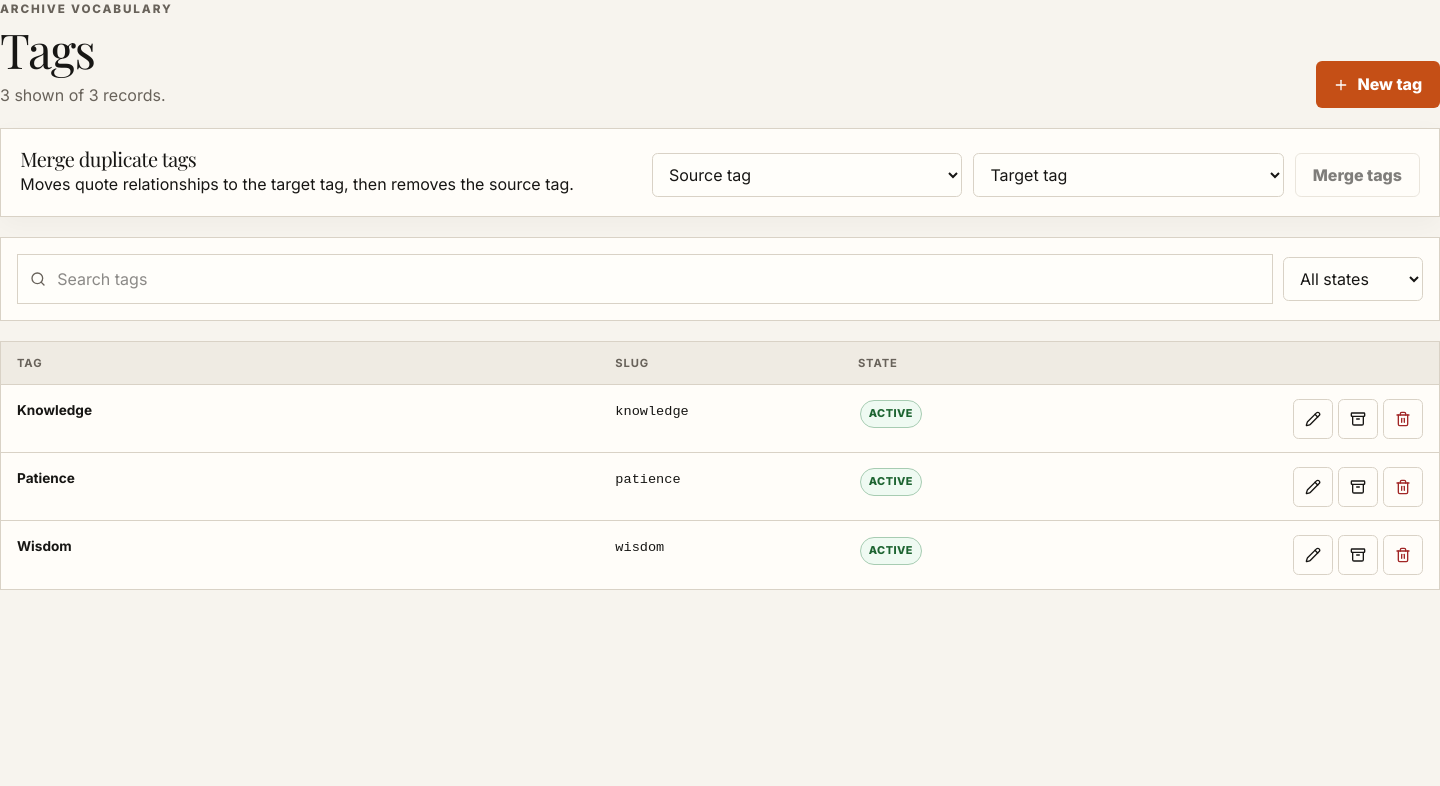
Test: admin taxonomy forms › preserves values on rejection, blocks duplicate submissions and releases the form for retry
Click the button named "Edit Knowledge" at (1313,419), box 1293,399 -> 1333,439
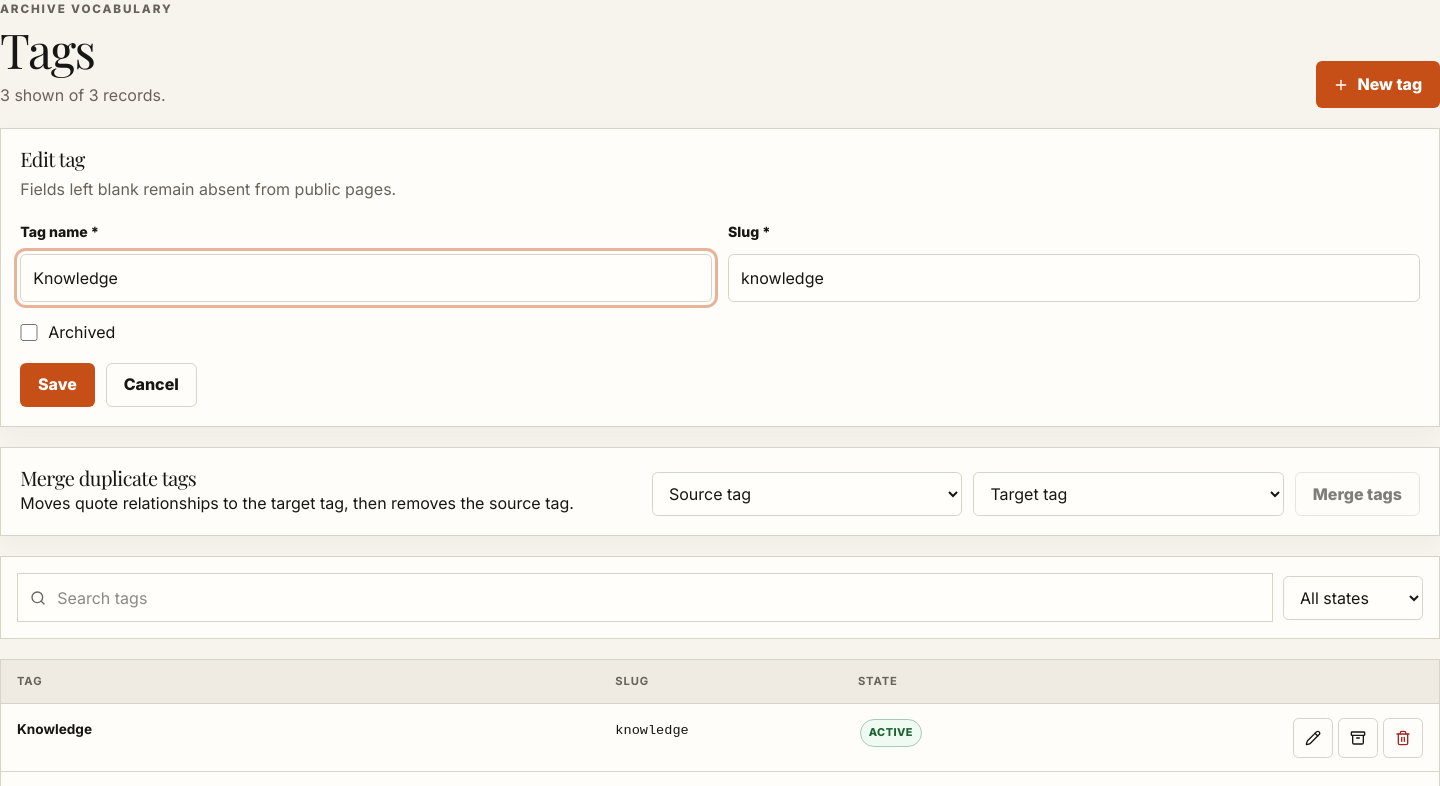
Replace the text in the field labelled "Tag name *" with "Changed" at (366,278), box 20,254 -> 712,302
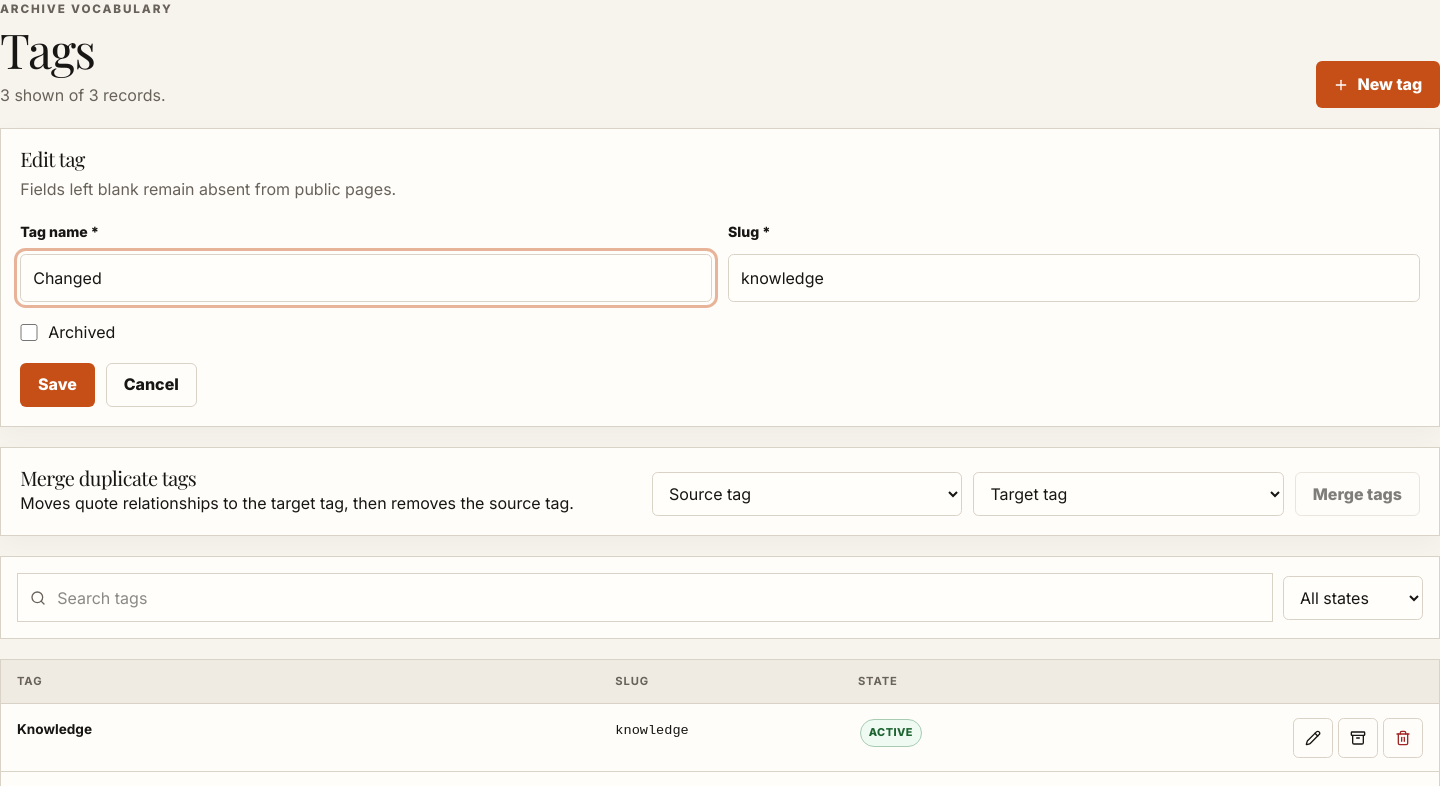
Submit the form "Tag name *", box 20,148 -> 1420,407
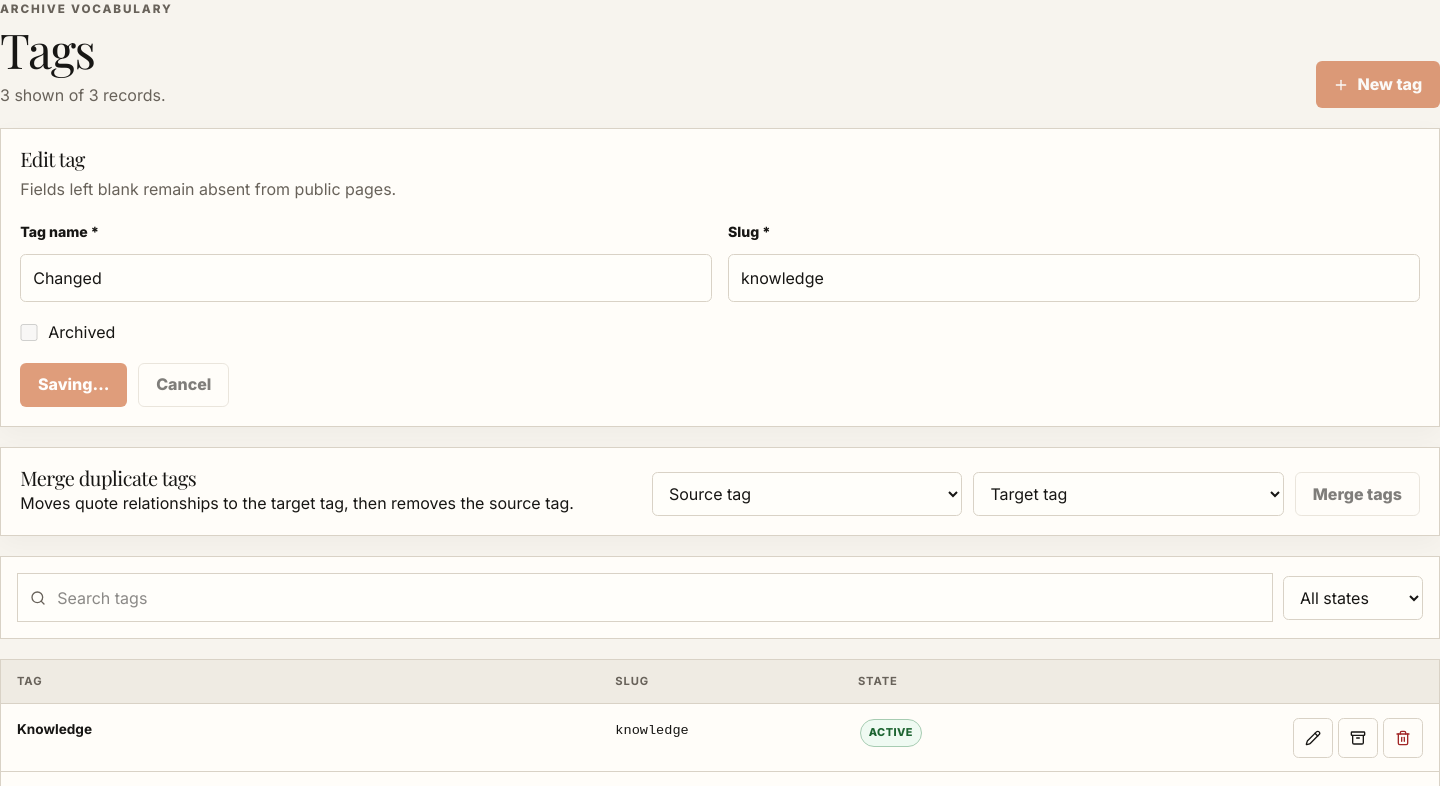
Submit the form "Tag name *", box 20,148 -> 1420,407
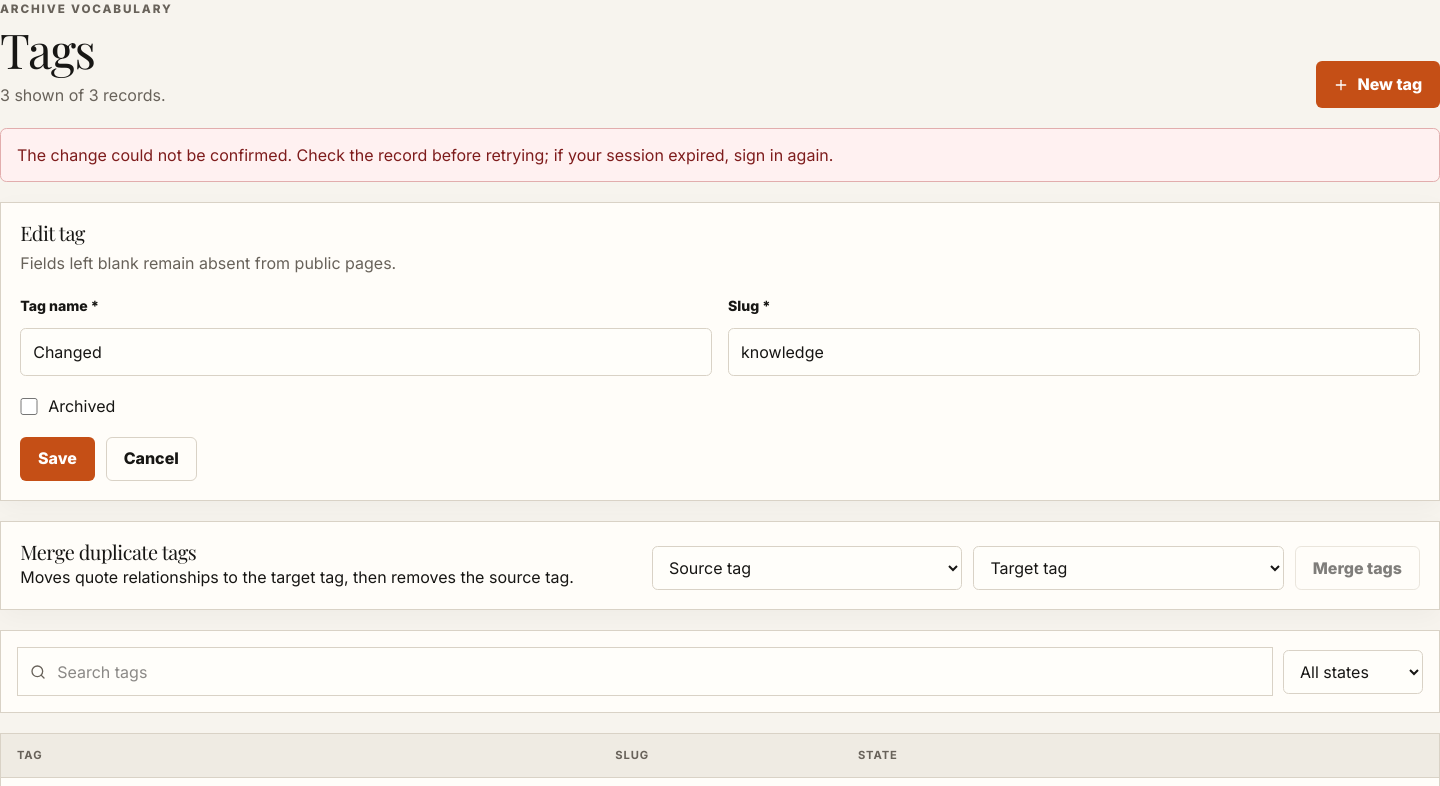
expect the message shows "could not be confirmed": met, box 17,145 -> 833,165
Submit the form "Tag name *", box 20,222 -> 1420,481
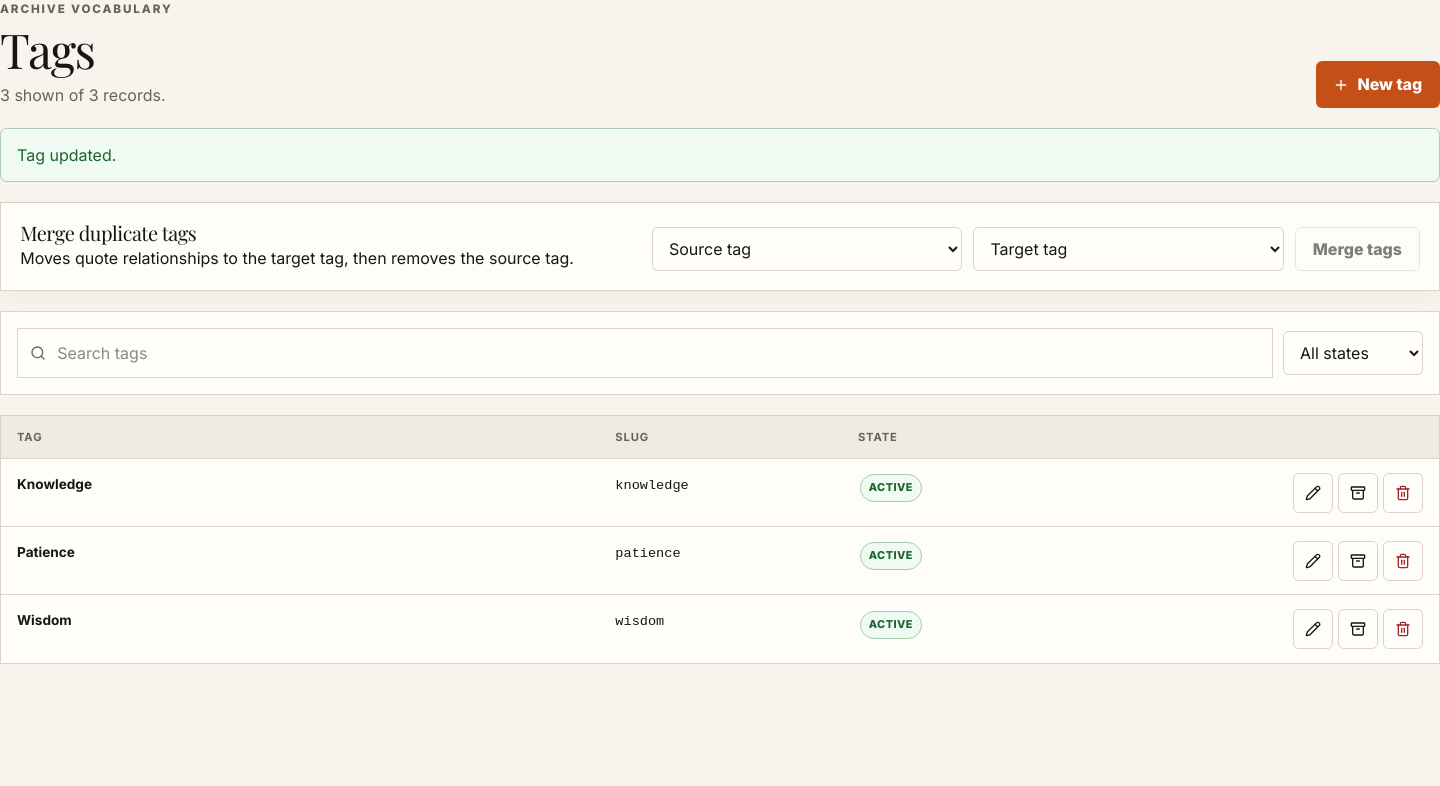
expect the form is gone: met
